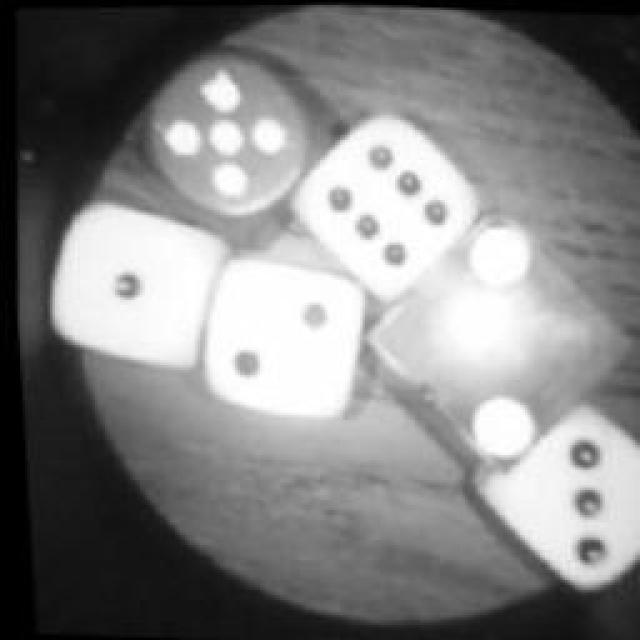dice_1: (35, 194, 225, 361)
dice_2: (345, 202, 635, 466), (196, 255, 369, 417)
dice_3: (462, 405, 640, 610)
dice_5: (138, 42, 318, 232)
dice_6: (284, 108, 478, 298)
